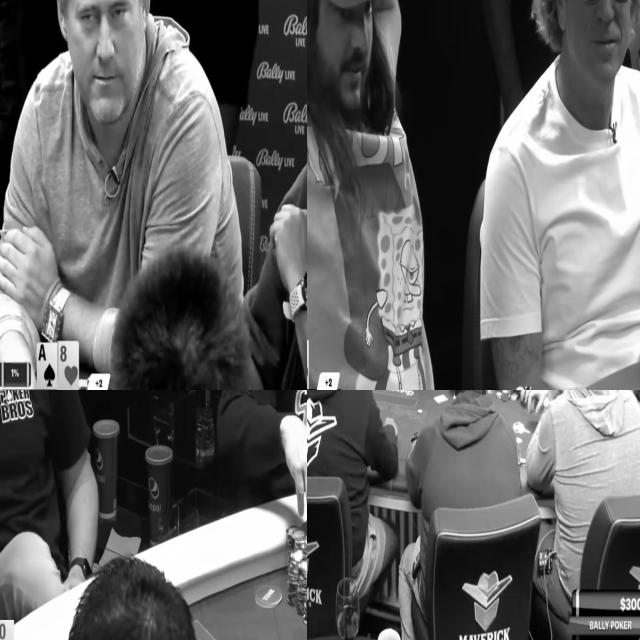10H: (0, 620, 13, 640)
8H: (57, 341, 78, 390)
AS: (37, 344, 58, 389)
